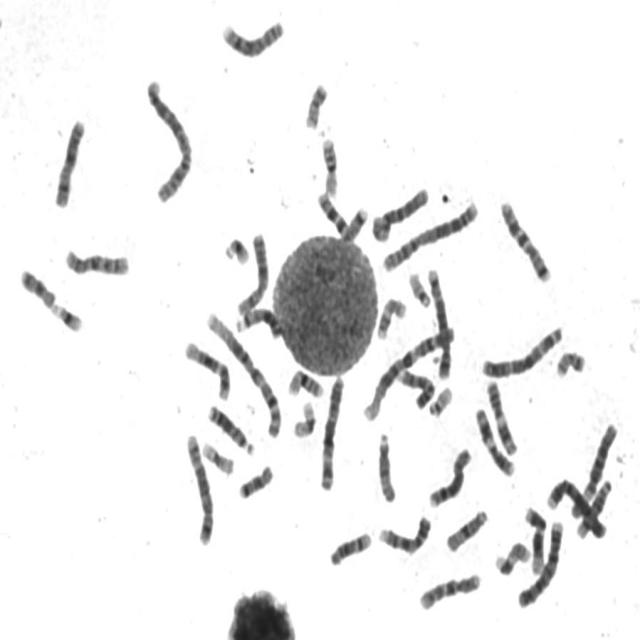A1: (202, 306, 284, 439), (357, 319, 457, 424)
A2: (378, 194, 481, 274), (140, 71, 195, 205)
A3: (477, 318, 566, 379), (315, 370, 347, 492)
B4: (514, 514, 566, 609), (543, 472, 608, 541)
B5: (182, 427, 215, 548), (424, 262, 454, 382)
C10: (414, 566, 483, 612), (60, 242, 132, 277)
C11: (471, 400, 517, 479), (482, 374, 519, 456)
C12: (179, 334, 232, 401), (520, 500, 548, 575)
C6: (568, 415, 620, 522), (367, 179, 430, 244)
C7: (495, 193, 553, 284), (312, 184, 368, 244)
C8: (217, 12, 287, 59), (424, 442, 473, 509)
C9: (374, 509, 434, 556), (393, 363, 436, 411)
D13: (203, 397, 256, 457), (233, 301, 283, 340)
D14: (572, 473, 614, 540), (325, 525, 373, 568)
D15: (442, 503, 490, 554), (372, 426, 398, 505)
E16: (317, 131, 340, 198), (284, 363, 326, 399)
E17: (372, 290, 409, 341), (490, 535, 532, 578)
E18: (16, 262, 57, 309), (234, 458, 275, 500)
F19: (198, 435, 236, 476), (289, 394, 318, 440)
F20: (300, 75, 330, 130), (552, 343, 587, 379)
G21: (49, 296, 84, 334), (220, 230, 251, 265)
G22: (404, 266, 433, 309), (424, 380, 454, 418)
X: (49, 112, 87, 210), (233, 226, 271, 316)
